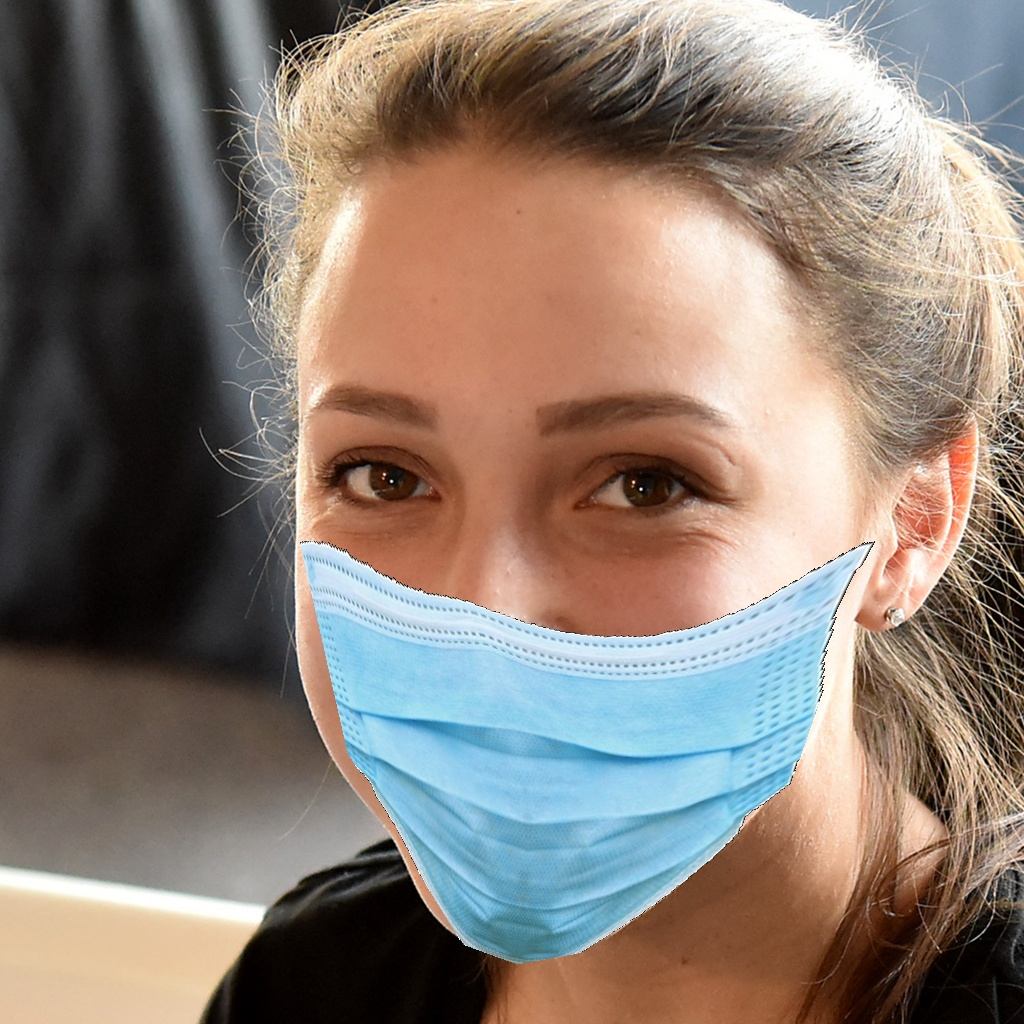Mask: (290, 351, 870, 960)
